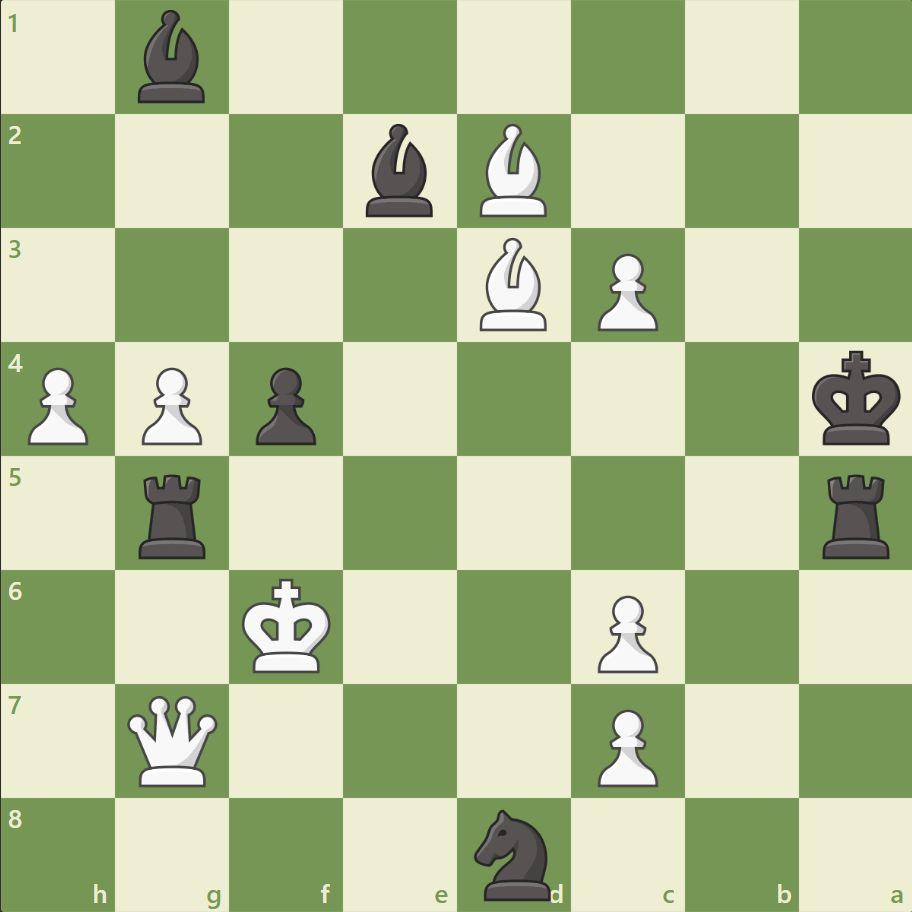B: (471, 233, 555, 336), (471, 120, 555, 222)
K: (238, 571, 338, 679)
P: (133, 359, 208, 450), (20, 359, 95, 450), (588, 700, 662, 791), (588, 586, 662, 677), (588, 246, 662, 337)
Q: (124, 690, 223, 789)
b: (131, 6, 215, 109), (358, 120, 442, 222)
k: (806, 344, 906, 452)
n: (465, 802, 562, 904)
p: (247, 359, 322, 450)
r: (814, 466, 897, 563), (133, 466, 215, 563)
